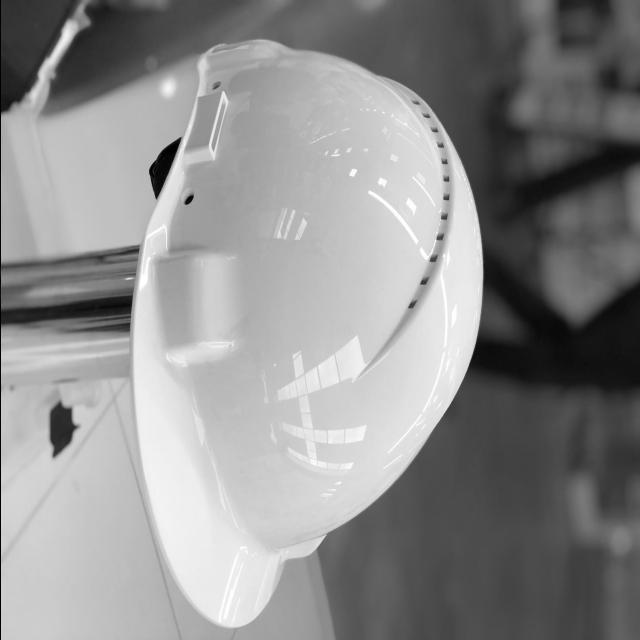safety_helmet: (127, 37, 482, 630)
